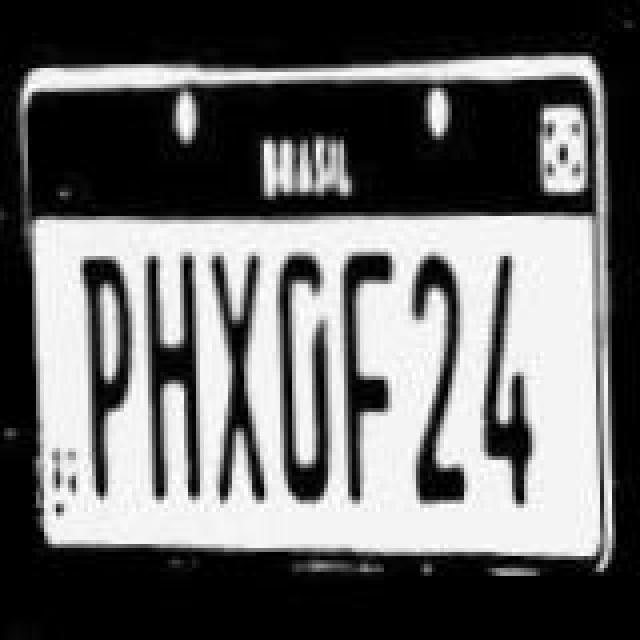2: (396, 240, 468, 508)
4: (480, 252, 552, 512)
D: (266, 254, 334, 494)
F: (334, 250, 402, 502)
H: (136, 248, 208, 520)
P: (74, 252, 134, 500)
X: (204, 244, 276, 500)
